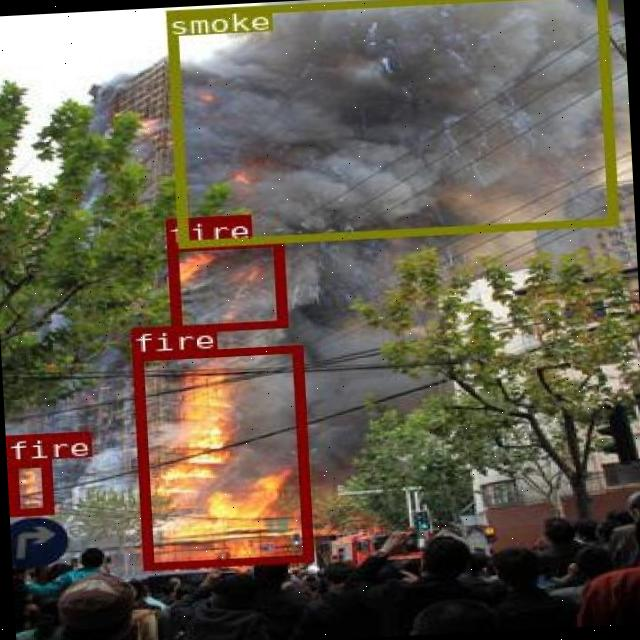fire: (132, 344, 310, 568), (165, 238, 285, 332), (7, 458, 51, 516)
smoke: (165, 0, 616, 246)
